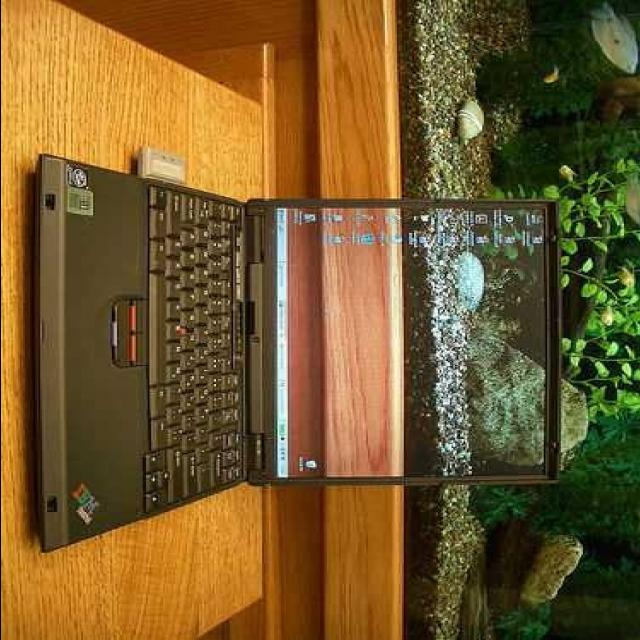laptop: (118, 175, 412, 515)
